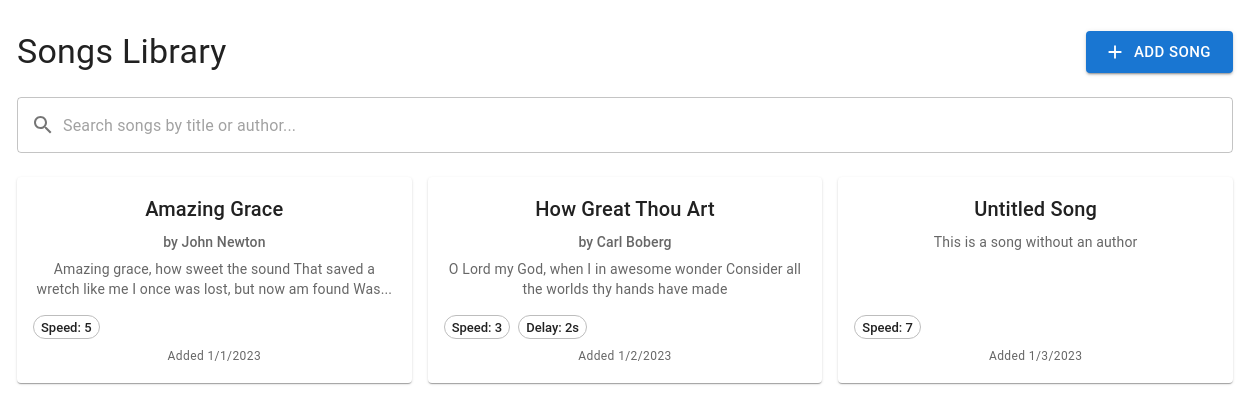
Test case: SongsListPage › Search Functionality › should show no results message when search yields no matches
Type "nonexistent" into the field with placeholder "Search songs by title or author..." at (648, 125), box [63, 97, 1233, 153]
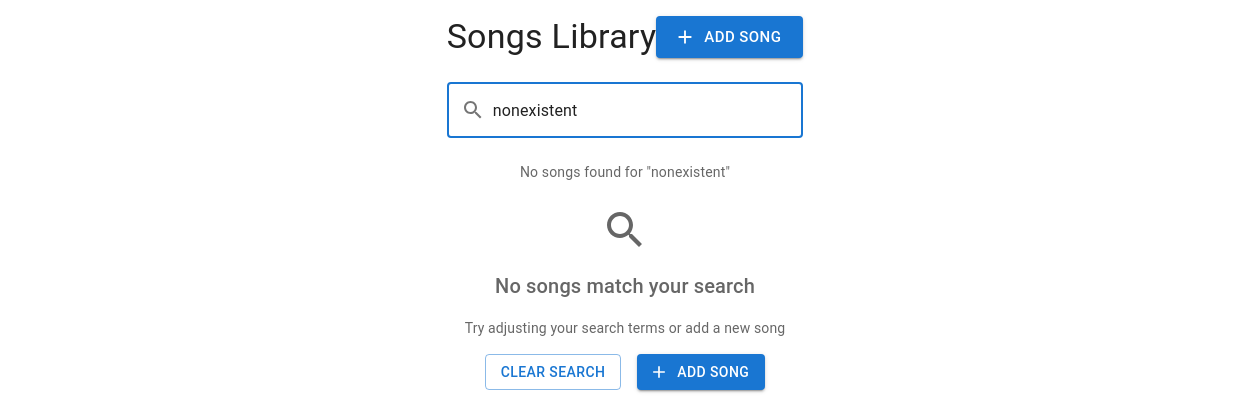
Expected: the heading "No songs match your search" is shown, [495, 270, 755, 302]
Expected: the text "Try adjusting your search terms or add a new song" is shown, [465, 318, 785, 338]
Expected: the text "No songs found for \"nonexistent\"" is shown, [520, 164, 730, 180]
